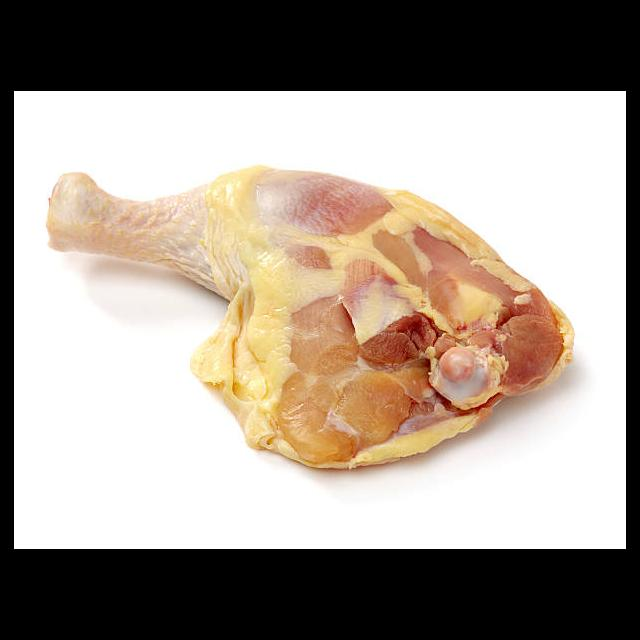chicken: (46, 163, 577, 470)
